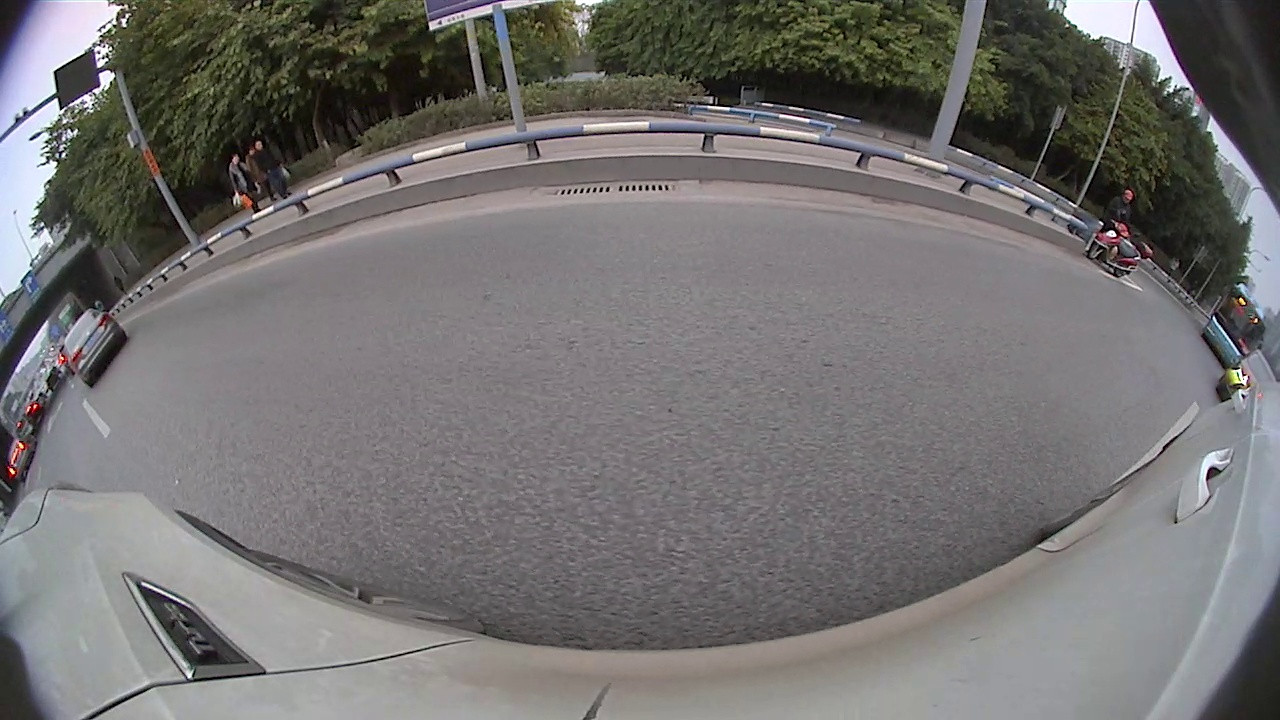bus: (1200, 280, 1269, 373)
car: (62, 306, 129, 389), (1215, 348, 1279, 406), (4, 433, 40, 484)
person: (253, 138, 290, 199), (229, 152, 260, 214), (1108, 187, 1134, 233)
rider: (1083, 217, 1155, 279)
